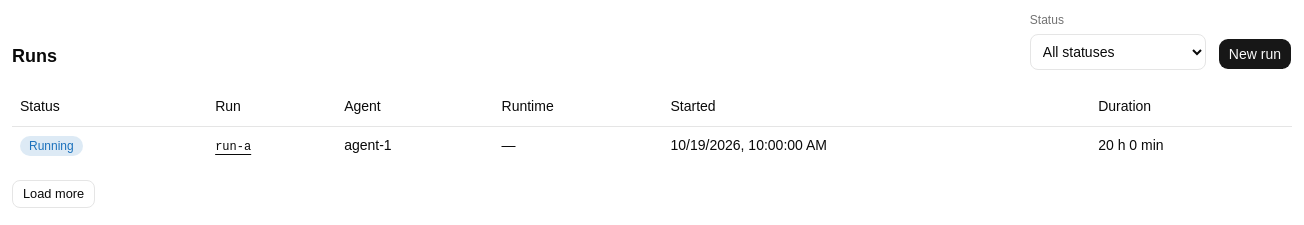
Test case: RunsScreen › loads the next page with the cursor, and offers it only when there is one
The image size is (1304, 225).
Click the button "Load more" at (54, 194), box [12,180,95,208]
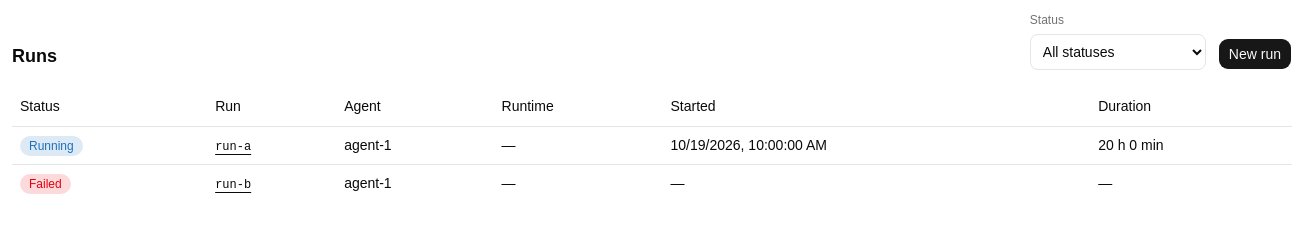
Expected: the link "run-b" is shown, [215,178,251,192]
Expected: the button "Load more" is gone
